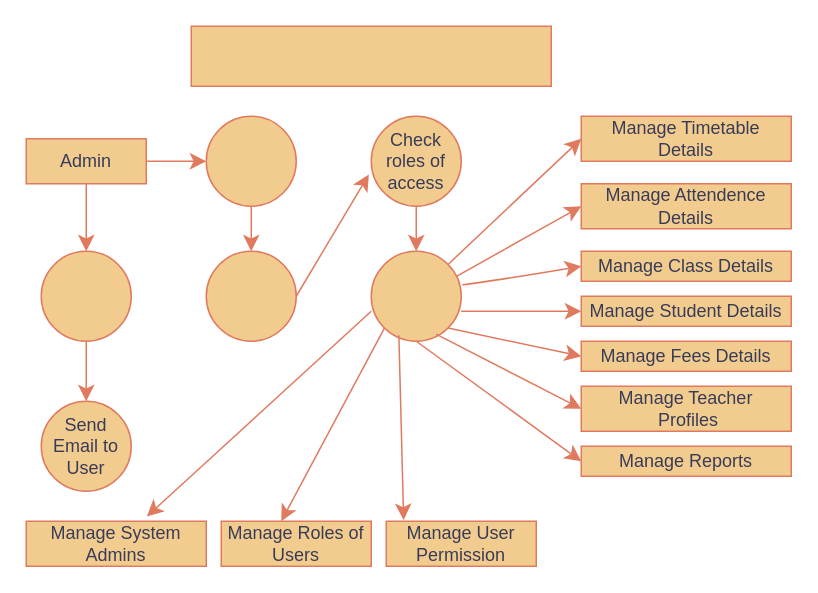
This 818x593 diagram has some shape labels left out. The centre of each missing label's shape, as x and y in pixels:
Check Credentials: the point at 250,295
Forgot Password: the point at 85,295
Login to system: the point at 250,160
Manage Modules: the point at 415,295
STUDENT INFORMATION SYSTEM: the point at 370,55
